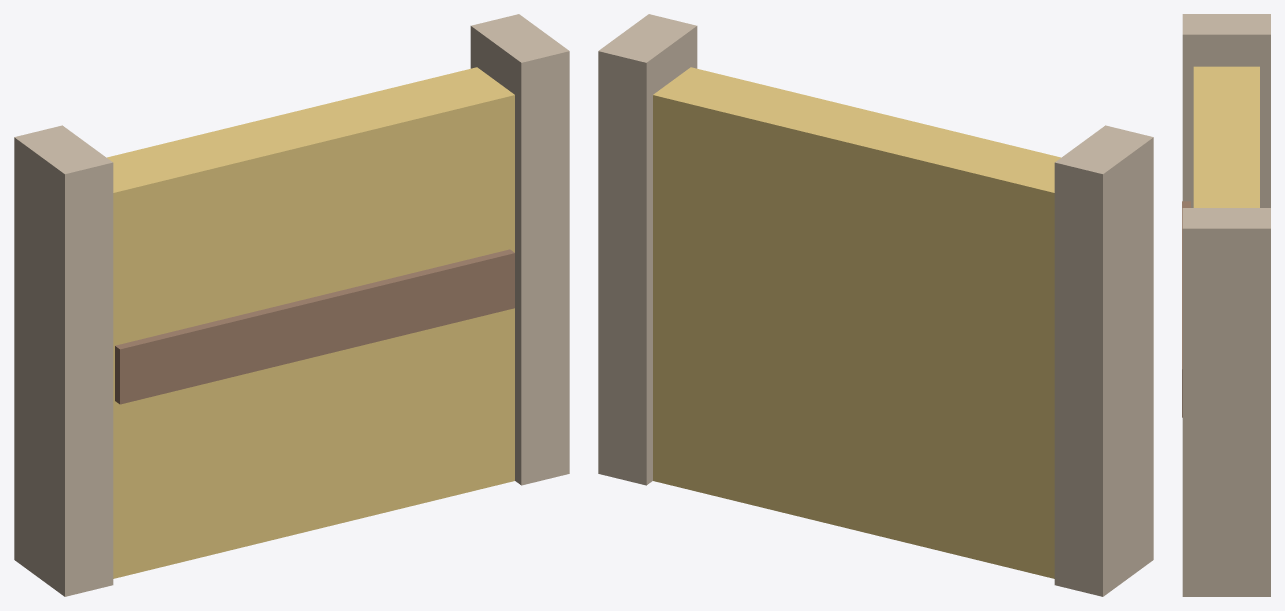
File: Door_Locked_Path.glb
3 views of the same model, side by side, from view 1: azimuth 30°, elevation 25°; view 2: azimuth 150°, elevation 25°; view 3: azimuth 270°, elevation 25° (orthographic). The views are drawn at different scales.
Parts seen in each view (by area): view 1: door_0, rail_1, rail_2, stripe_3; view 2: door_0, rail_1, rail_2; view 3: rail_2, door_0, rail_1, stripe_3.
Part boxes in pixels (box(x1,y1,x2,y2)): door_0: box(107, 67, 514, 578); rail_1: box(14, 125, 113, 596); rail_2: box(470, 14, 569, 485); stripe_3: box(115, 249, 514, 404); door_0: box(653, 67, 1060, 578); rail_1: box(1054, 125, 1153, 596); rail_2: box(598, 14, 697, 485); rail_2: box(1182, 208, 1270, 596); door_0: box(1193, 66, 1259, 207); rail_1: box(1182, 14, 1270, 207); stripe_3: box(1182, 201, 1190, 417).
Size of the model in its own units: 1.15 by 0.92 by 0.201.
